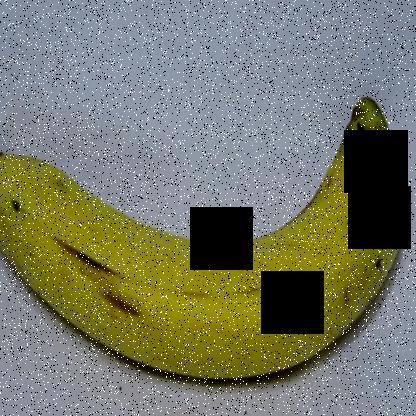freshripe: (1, 82, 415, 405)
